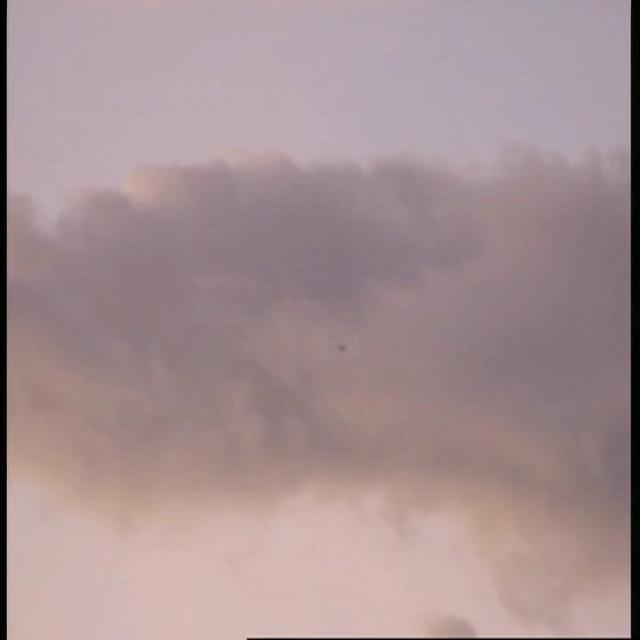drone: (328, 336, 358, 364)
